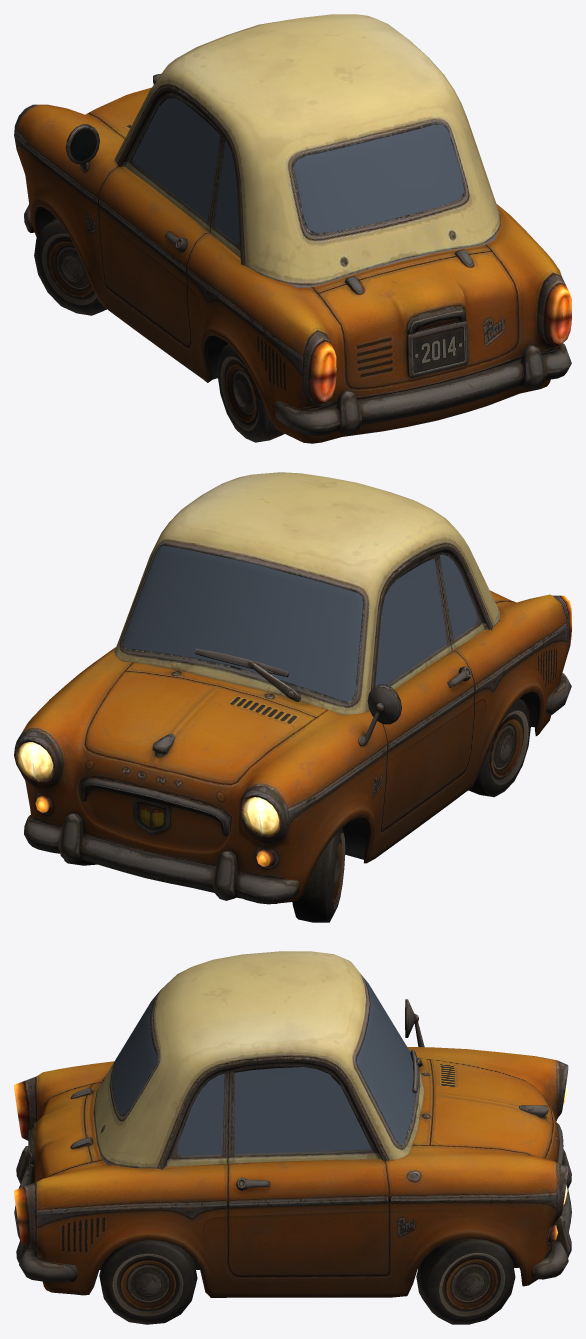
The model's file is pony.glb.
The picture shows the model from 3 angles, top to bottom: view 1: azimuth 30°, elevation 25°; view 2: azimuth 150°, elevation 25°; view 3: azimuth 270°, elevation 25°; orthographic projection. The views are drawn at different scales.
Parts seen in each view (by area): view 1: body; view 2: body; view 3: body.
Part boxes in pixels (left/top/right/bottom): body: left=14, top=14, right=571, bottom=443; body: left=14, top=472, right=571, bottom=922; body: left=14, top=951, right=571, bottom=1324.
Bounding box in the file's own units: 4.03 × 3.75 × 6.65.
3 materials, 2 textured.
